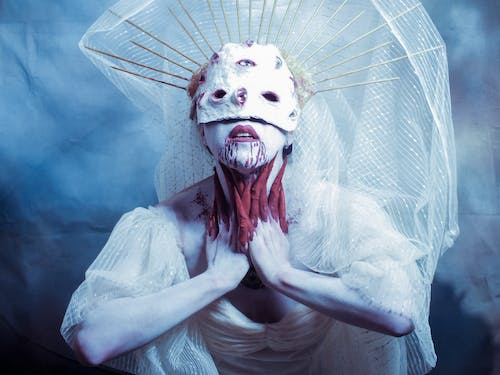blood: (189, 152, 305, 257), (215, 137, 269, 174), (185, 66, 208, 101), (189, 90, 206, 120), (259, 87, 282, 107), (235, 56, 259, 72), (235, 84, 250, 109), (209, 86, 228, 104), (210, 51, 221, 64)
